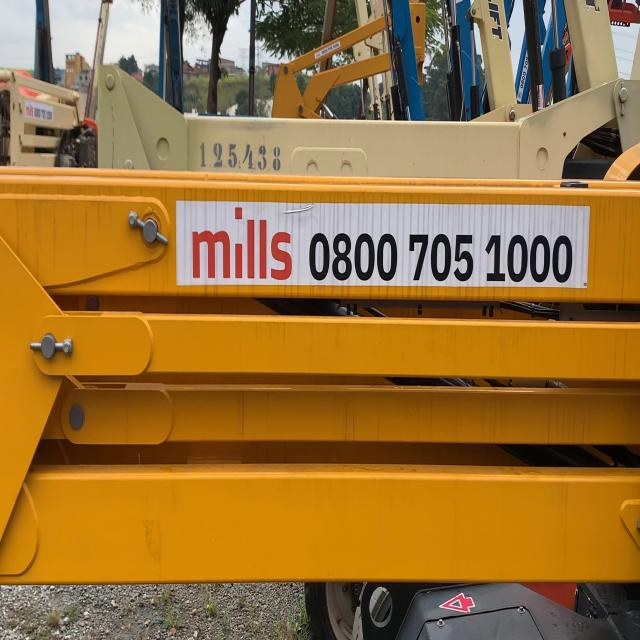Adesivo Longo: (173, 190, 592, 293)
